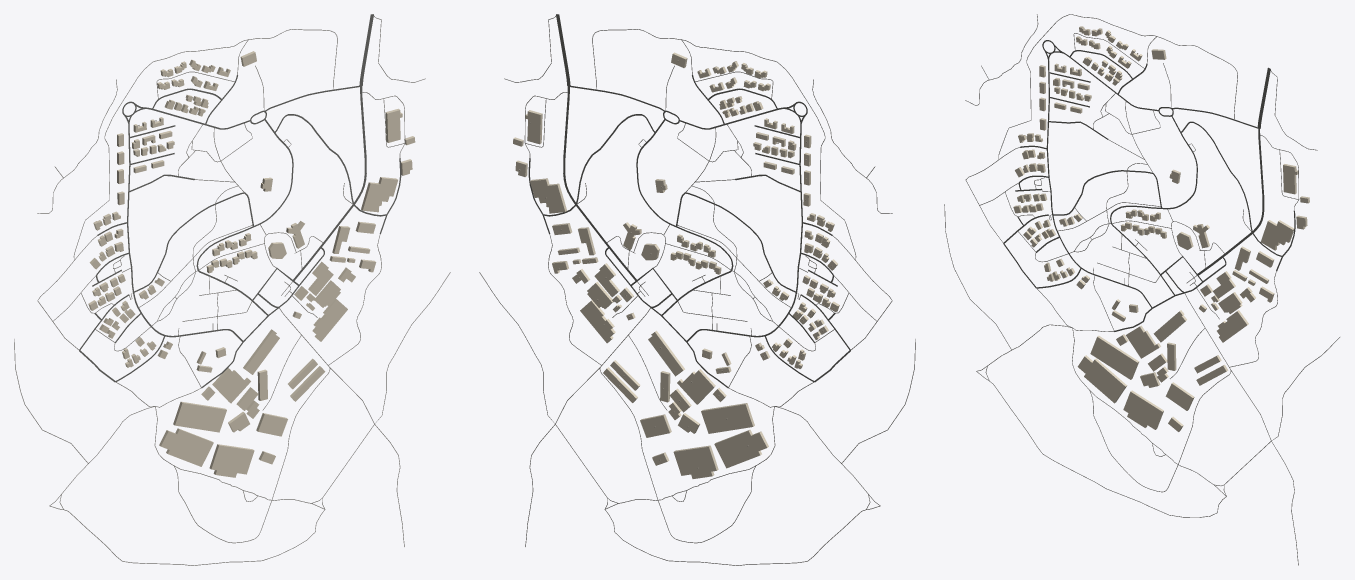
Rendered from historic-palestine-04_21_3464_3150.glb.
3 renders of one model, left to right at view 1: azimuth 30°, elevation 25°; view 2: azimuth 150°, elevation 25°; view 3: azimuth 330°, elevation 25°, orthographic. The views are drawn at different scales.
Visible parts, largest first — view 1: Building_.078, Building_.077, Building_.082, Building_.101, Building_.076, Building_.070, Road .007, Building_.089, Road .002, Road .030, Building_.079; view 2: Building_.078, Building_.077, Building_.082, Building_.101, Building_.076, Building_.070, Road .007, Building_.089, Road .002, Road .030, Building_.079; view 3: Building_.078, Building_.077, Building_.082, Building_.101, Building_.076, Road .007, Building_.070.
Part boxes in pixels (x1=…): Building_.078: x1=159, y1=428, x2=213, y2=466; Building_.077: x1=173, y1=401, x2=226, y2=432; Building_.082: x1=209, y1=444, x2=254, y2=477; Building_.101: x1=361, y1=177, x2=397, y2=212; Building_.076: x1=212, y1=368, x2=250, y2=403; Building_.070: x1=312, y1=299, x2=347, y2=341; Road .007: x1=127, y1=123, x2=243, y2=342; Building_.089: x1=243, y1=329, x2=279, y2=374; Road .002: x1=293, y1=86, x2=366, y2=280; Road .030: x1=196, y1=119, x2=293, y2=300; Building_.079: x1=256, y1=413, x2=287, y2=436; Building_.078: x1=714, y1=429, x2=768, y2=468; Building_.077: x1=701, y1=403, x2=754, y2=433; Building_.082: x1=673, y1=445, x2=718, y2=478; Building_.101: x1=530, y1=178, x2=566, y2=213; Building_.076: x1=677, y1=369, x2=715, y2=404; Building_.070: x1=580, y1=300, x2=615, y2=343; Road .007: x1=686, y1=123, x2=802, y2=342; Building_.089: x1=648, y1=330, x2=684, y2=376; Road .002: x1=563, y1=86, x2=636, y2=280; Road .030: x1=636, y1=119, x2=733, y2=300; Building_.079: x1=640, y1=414, x2=671, y2=437; Building_.078: x1=1077, y1=355, x2=1127, y2=403; Building_.077: x1=1090, y1=335, x2=1138, y2=379; Building_.082: x1=1123, y1=390, x2=1163, y2=429; Building_.101: x1=1261, y1=220, x2=1294, y2=250; Building_.076: x1=1126, y1=325, x2=1160, y2=358; Road .007: x1=1046, y1=59, x2=1152, y2=308; Building_.070: x1=1217, y1=310, x2=1248, y2=342.
Bounding box in the file's own units: 1014 × 1220 × 8.7.
